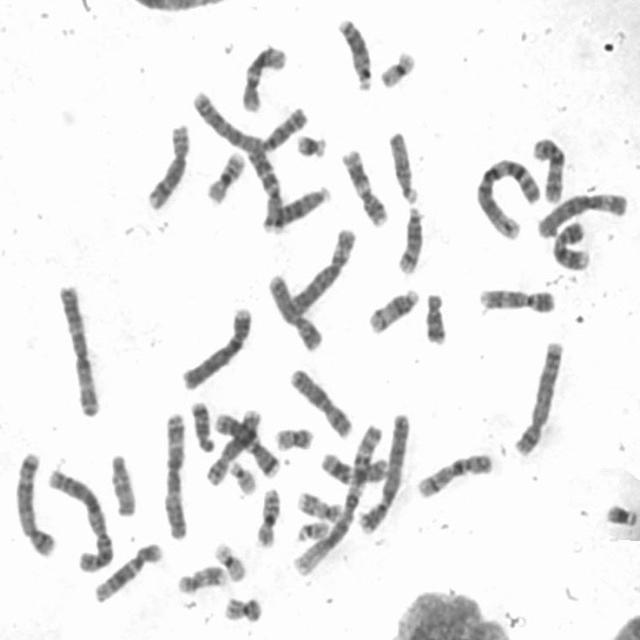A1: (290, 420, 386, 579), (472, 154, 542, 241)
A2: (191, 88, 285, 234), (44, 466, 115, 573)
A3: (56, 280, 100, 418), (161, 409, 189, 539)
B4: (355, 410, 412, 536), (179, 302, 253, 392)
B5: (512, 337, 564, 458), (13, 449, 57, 558)
C10: (412, 448, 493, 500), (529, 134, 566, 204)
C11: (339, 145, 390, 229), (318, 448, 389, 487)
C12: (91, 538, 163, 604), (238, 40, 287, 115)
C6: (285, 223, 358, 317), (533, 188, 629, 240)
C7: (212, 409, 280, 479), (244, 140, 287, 236)
C8: (202, 406, 263, 488), (144, 119, 191, 213)
C9: (476, 284, 557, 315), (550, 218, 591, 271)
D13: (260, 182, 332, 234), (336, 15, 374, 92)
D14: (365, 285, 420, 335), (394, 204, 426, 275)
D15: (386, 129, 419, 206), (108, 449, 138, 517)
E16: (203, 149, 248, 207), (253, 485, 283, 549)
E17: (174, 561, 228, 596), (294, 488, 345, 524)
E18: (188, 398, 216, 454), (421, 289, 447, 346)
F19: (376, 47, 417, 90), (211, 539, 248, 583)
F20: (221, 593, 264, 624), (272, 424, 315, 452)
G21: (293, 130, 328, 160), (604, 500, 638, 527)
G22: (227, 457, 258, 496), (293, 516, 330, 543)
X: (287, 364, 353, 440), (266, 270, 324, 353)
